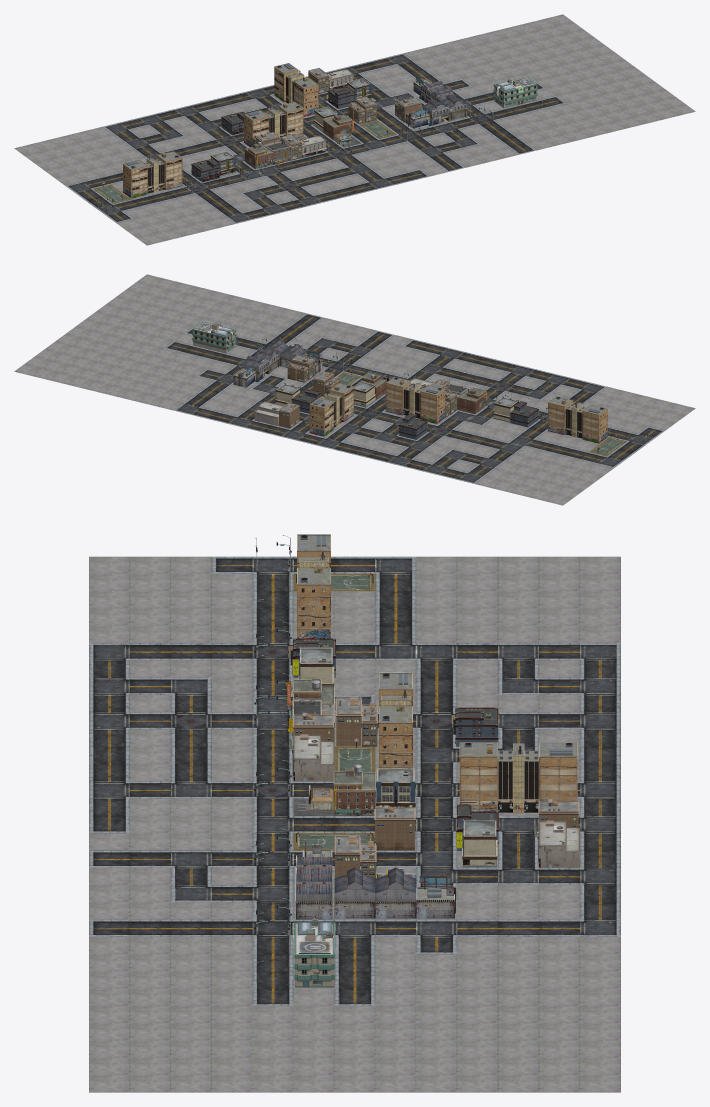
File: CityBlock.fbx
3 renders of one model, top to bottom at view 1: azimuth 30°, elevation 25°; view 2: azimuth 150°, elevation 25°; view 3: azimuth 270°, elevation 25°, orthographic. The views are drawn at different scales.
Parts seen in each view (by area): view 1: CityBlock; view 2: CityBlock; view 3: CityBlock.
Boxes of the visible parts, <box> form: CityBlock: <box>14,14,695,245</box>; CityBlock: <box>14,274,695,505</box>; CityBlock: <box>89,534,620,1092</box>.
Bounding box in the file's own units: 30690 × 1752 × 12870.
20 materials, 16 textured.
